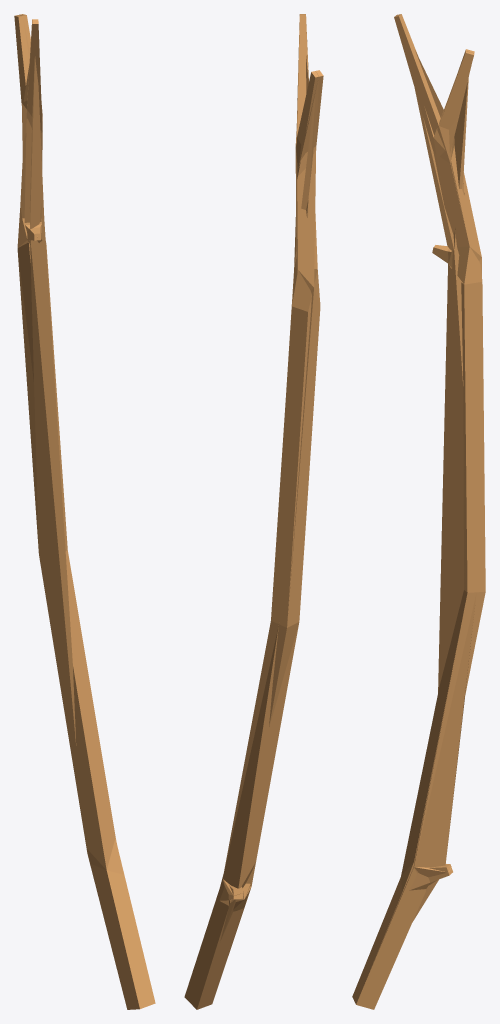
Rendered from stick_03_long_LOD.fbx.
3 views of the same model, side by side, from view 1: azimuth 30°, elevation 25°; view 2: azimuth 210°, elevation 25°; view 3: azimuth 270°, elevation 25° (orthographic). The views are drawn at different scales.
Parts seen in each view (by area): view 1: stick3, stick3_2, stick3_1; view 2: stick3, stick3_1, stick3_2; view 3: stick3, stick3_2, stick3_1.
Part boxes in pixels (x1=…): stick3: x1=14, y1=14, x2=155, y2=1008; stick3_2: x1=23, y1=56, x2=76, y2=747; stick3_1: x1=17, y1=14, x2=152, y2=1009; stick3: x1=197, y1=14, x2=323, y2=1009; stick3_1: x1=184, y1=78, x2=320, y2=1009; stick3_2: x1=220, y1=56, x2=315, y2=940; stick3: x1=352, y1=14, x2=485, y2=1004; stick3_2: x1=413, y1=50, x2=476, y2=920; stick3_1: x1=356, y1=51, x2=485, y2=1009.
Bounding box in the file's own units: 13.68 × 128 × 16.27.
